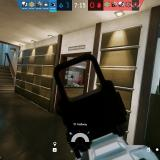Character: (77, 80, 83, 86)
Friend_label: (86, 74, 92, 78), (78, 76, 82, 80)
Head: (80, 80, 81, 82)
